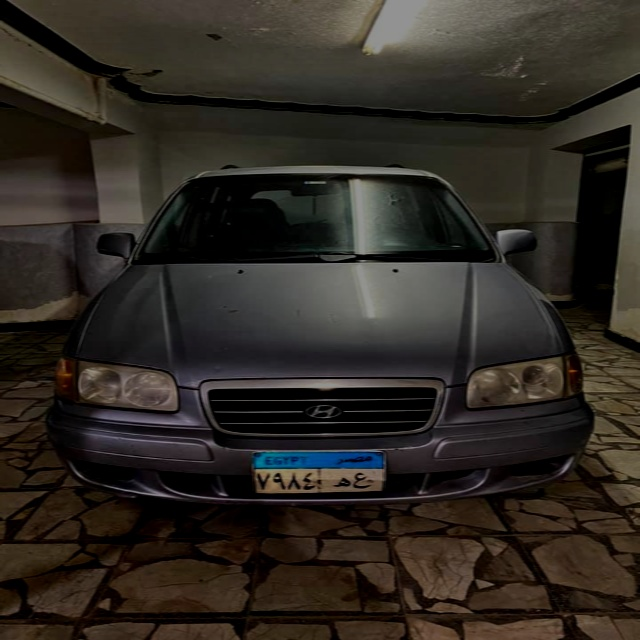License Plate: (251, 449, 388, 496)
